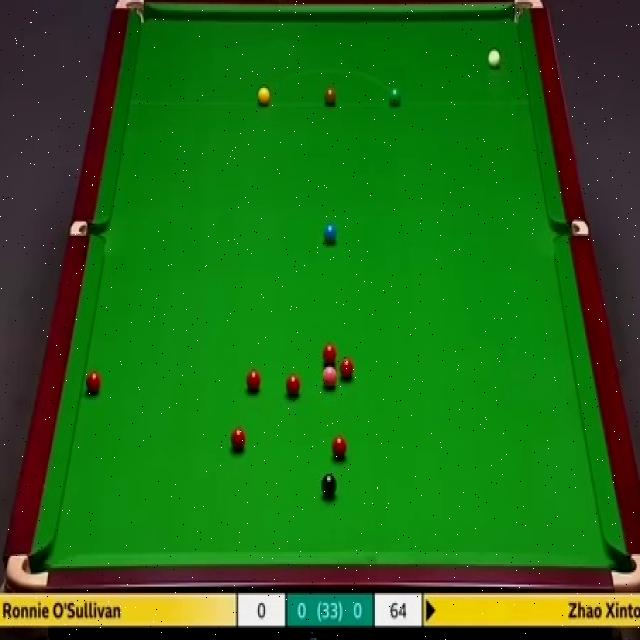black-ball: (320, 473, 338, 498)
blue-ball: (324, 223, 337, 246)
brown-ball: (324, 89, 337, 107)
green-ball: (389, 87, 402, 106)
pink-ball: (321, 365, 338, 392)
red-ball: (244, 366, 261, 395), (339, 356, 356, 381), (322, 342, 338, 368), (83, 372, 100, 396), (231, 427, 246, 453), (285, 374, 300, 398)
white-ball: (485, 44, 503, 71)
yellow-ball: (256, 85, 270, 107)
